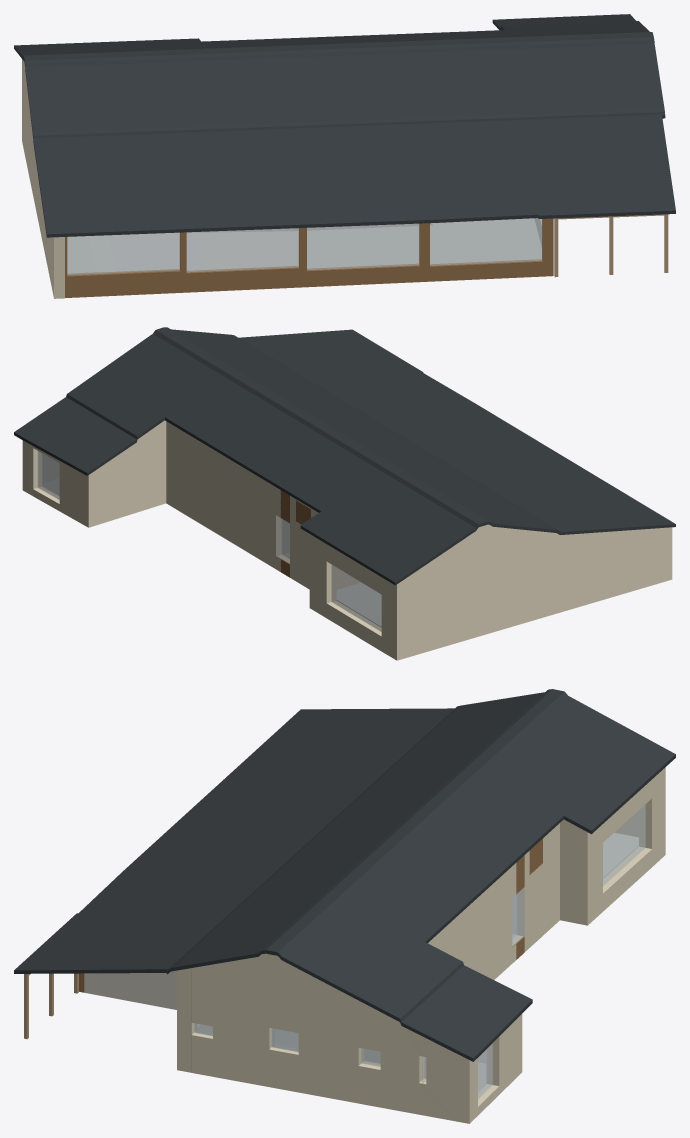
File: rebus_ESQ.glb
The picture shows the model from 3 angles, top to bottom: view 1: azimuth 30°, elevation 25°; view 2: azimuth 150°, elevation 25°; view 3: azimuth 270°, elevation 25°; orthographic projection. The views are drawn at different scales.
Visible parts, largest first — view 1: ESQ_toiture_projet_toiture, ESQ_mur_neuf_Mur_50, ESQ_sol_projet_Espace_de_Réparation_12, ESQ_sol_projet_Espace_de_Réparation_11, ESQ_porte_neuf_Fenetre_personnalisable_25_22_23, ESQ_porte_neuf_Fenetre_personnalisable_25_22_24, ESQ_fenetre_neuf_Fenetre_personnalisable_25_22_26, ESQ_fenetre_neuf_Fenetre_personnalisable_25_22_25, ESQ_sol_projet_Coin_Café_5, ESQ_mur_existant_Mur_9, ESQ_mur_existant_Mur_28; view 2: ESQ_toiture_projet_toiture, ESQ_mur_existant_Mur_9, ESQ_mur_existant_Mur_12, ESQ_mur_existant_Mur_28, ESQ_mur_existant_Mur_14, ESQ_mur_existant_Mur_10, ESQ_mur_existant_Mur_005, ESQ_porte_existant_Fenetre_personnalisable_25_4_3, ESQ_mur_existant_Mur_003, ESQ_sol_projet_Local_1_3, ESQ_porte_existant_Fenetre_personnalisable_25_11_10, ESQ_porte_existant_Fenetre_personnalisable_25_17_16 (+2 smaller); view 3: ESQ_toiture_projet_toiture, ESQ_mur_existant_Mur_16, ESQ_mur_existant_Mur_13, ESQ_mur_existant_Mur_12, ESQ_mur_existant_Mur_10, ESQ_muret_existant_Mur_32, ESQ_mur_existant_Mur_005, ESQ_mur_existant_Mur_003, ESQ_porte_existant_Fenetre_personnalisable_25_4_3, ESQ_mur_existant_Mur_004, ESQ_mur_existant_Mur_7, ESQ_mur_existant_Mur_11 (+5 smaller).
Boxes of the visible parts, x1=… form: ESQ_toiture_projet_toiture: x1=14, y1=14, x2=675, y2=237; ESQ_mur_neuf_Mur_50: x1=65, y1=218, x2=553, y2=297; ESQ_sol_projet_Espace_de_Réparation_12: x1=107, y1=229, x2=360, y2=271; ESQ_sol_projet_Espace_de_Réparation_11: x1=352, y1=218, x2=541, y2=265; ESQ_porte_neuf_Fenetre_personnalisable_25_22_23: x1=430, y1=218, x2=542, y2=265; ESQ_porte_neuf_Fenetre_personnalisable_25_22_24: x1=307, y1=223, x2=419, y2=269; ESQ_fenetre_neuf_Fenetre_personnalisable_25_22_26: x1=186, y1=228, x2=298, y2=272; ESQ_fenetre_neuf_Fenetre_personnalisable_25_22_25: x1=67, y1=232, x2=179, y2=274; ESQ_sol_projet_Coin_Café_5: x1=67, y1=235, x2=115, y2=273; ESQ_mur_existant_Mur_9: x1=22, y1=59, x2=40, y2=231; ESQ_mur_existant_Mur_28: x1=40, y1=195, x2=64, y2=298; ESQ_toiture_projet_toiture: x1=14, y1=327, x2=675, y2=585; ESQ_mur_existant_Mur_9: x1=390, y1=524, x2=558, y2=660; ESQ_mur_existant_Mur_12: x1=166, y1=421, x2=286, y2=568; ESQ_mur_existant_Mur_28: x1=558, y1=527, x2=672, y2=612; ESQ_mur_existant_Mur_14: x1=97, y1=420, x2=166, y2=524; ESQ_mur_existant_Mur_10: x1=309, y1=534, x2=389, y2=656; ESQ_mur_existant_Mur_005: x1=29, y1=444, x2=88, y2=527; ESQ_porte_existant_Fenetre_personnalisable_25_4_3: x1=331, y1=565, x2=381, y2=631; ESQ_mur_existant_Mur_003: x1=290, y1=496, x2=310, y2=589; ESQ_sol_projet_Local_1_3: x1=337, y1=582, x2=381, y2=626; ESQ_porte_existant_Fenetre_personnalisable_25_11_10: x1=38, y1=451, x2=59, y2=499; ESQ_porte_existant_Fenetre_personnalisable_25_17_16: x1=42, y1=454, x2=59, y2=495; ESQ_toiture_projet_toiture: x1=14, y1=689, x2=675, y2=1061; ESQ_mur_existant_Mur_16: x1=191, y1=953, x2=343, y2=1100; ESQ_mur_existant_Mur_13: x1=358, y1=1001, x2=456, y2=1121; ESQ_mur_existant_Mur_12: x1=343, y1=866, x2=512, y2=1103; ESQ_mur_existant_Mur_10: x1=574, y1=773, x2=659, y2=925; ESQ_muret_existant_Mur_32: x1=84, y1=970, x2=176, y2=1009; ESQ_mur_existant_Mur_005: x1=475, y1=1014, x2=522, y2=1117; ESQ_mur_existant_Mur_003: x1=513, y1=851, x2=542, y2=951; ESQ_porte_existant_Fenetre_personnalisable_25_4_3: x1=603, y1=804, x2=645, y2=886; ESQ_mur_existant_Mur_004: x1=543, y1=823, x2=559, y2=935; ESQ_mur_existant_Mur_7: x1=177, y1=968, x2=212, y2=1072; ESQ_mur_existant_Mur_11: x1=560, y1=819, x2=574, y2=922.
Bounding box in the file's own units: 31.61 × 5.92 × 25.34.
